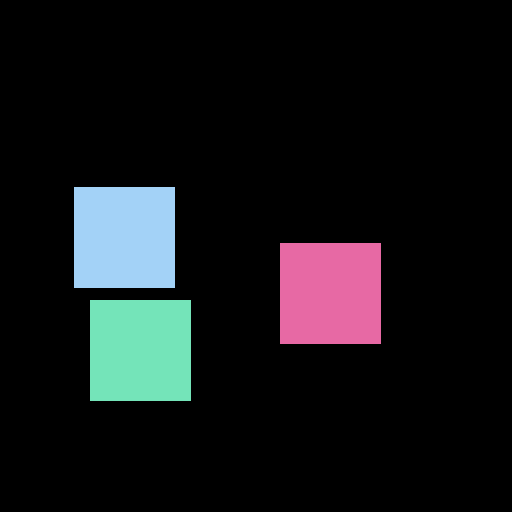square: (90, 300, 190, 400), (280, 243, 380, 343), (74, 187, 174, 287)
